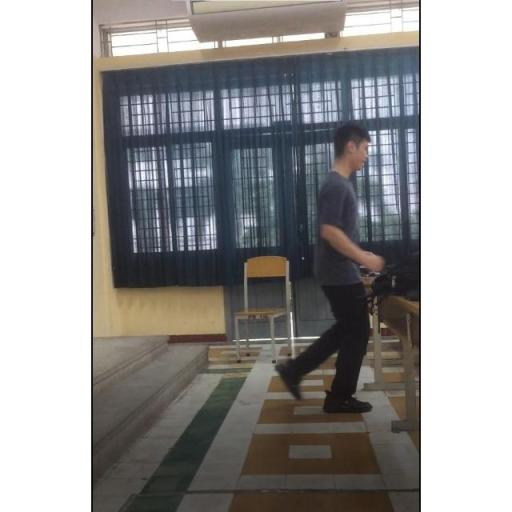Running: (259, 121, 392, 424)
